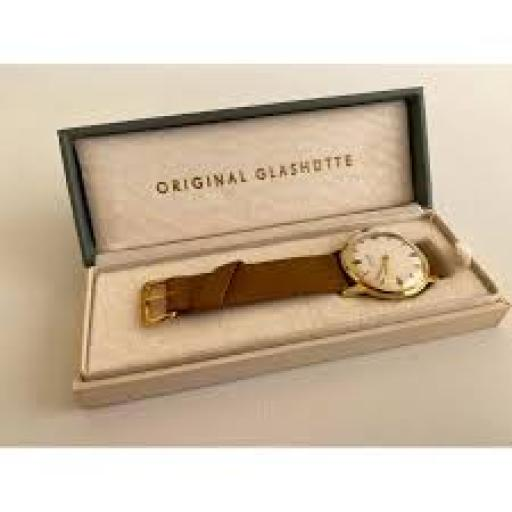KolSaati: (115, 222, 466, 324)
